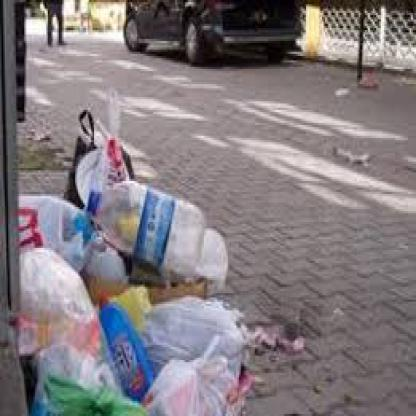Garbage: (95, 286, 170, 412), (144, 276, 256, 356), (25, 244, 110, 344), (21, 190, 110, 268), (73, 106, 139, 190), (41, 345, 118, 414), (136, 358, 226, 414)
